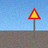sign: (28, 8, 41, 39)
